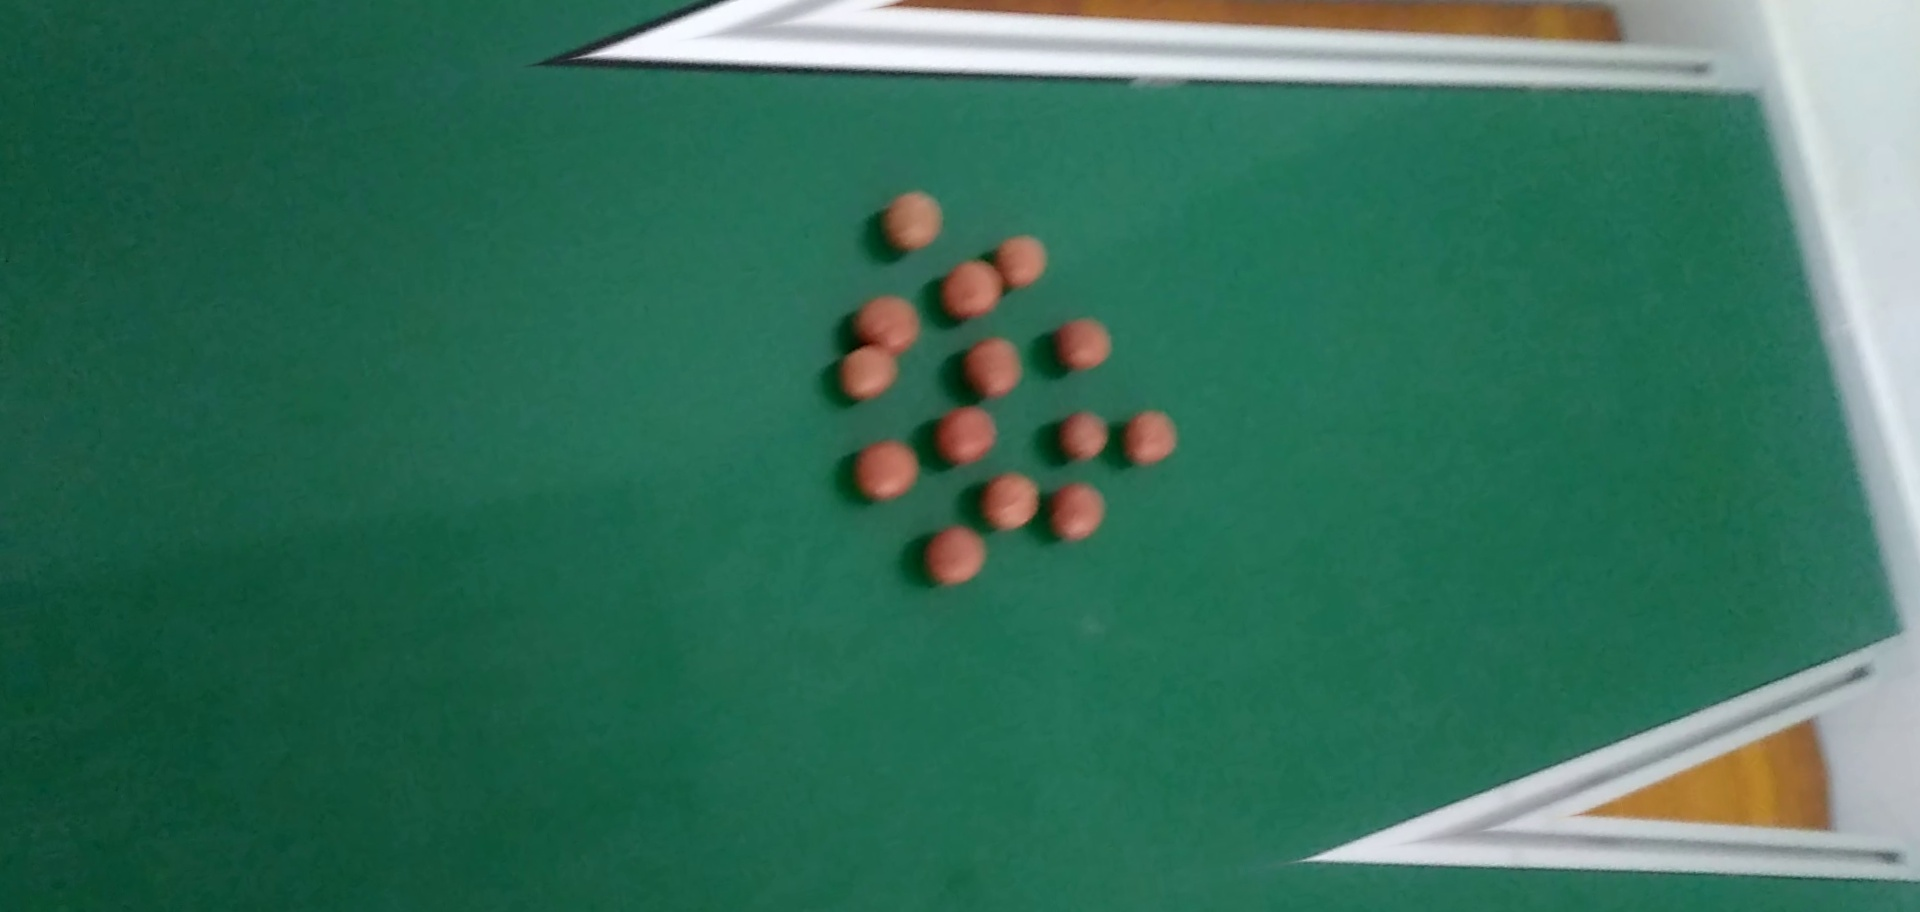mac: (852, 288, 926, 359), (852, 435, 921, 507), (960, 332, 1030, 402), (879, 186, 950, 255), (923, 520, 991, 589), (932, 403, 1003, 468), (978, 468, 1044, 534), (940, 257, 1007, 322), (838, 340, 901, 403), (1122, 405, 1184, 469), (1048, 477, 1109, 541), (993, 231, 1053, 291), (1057, 312, 1116, 373), (1056, 406, 1113, 462)
